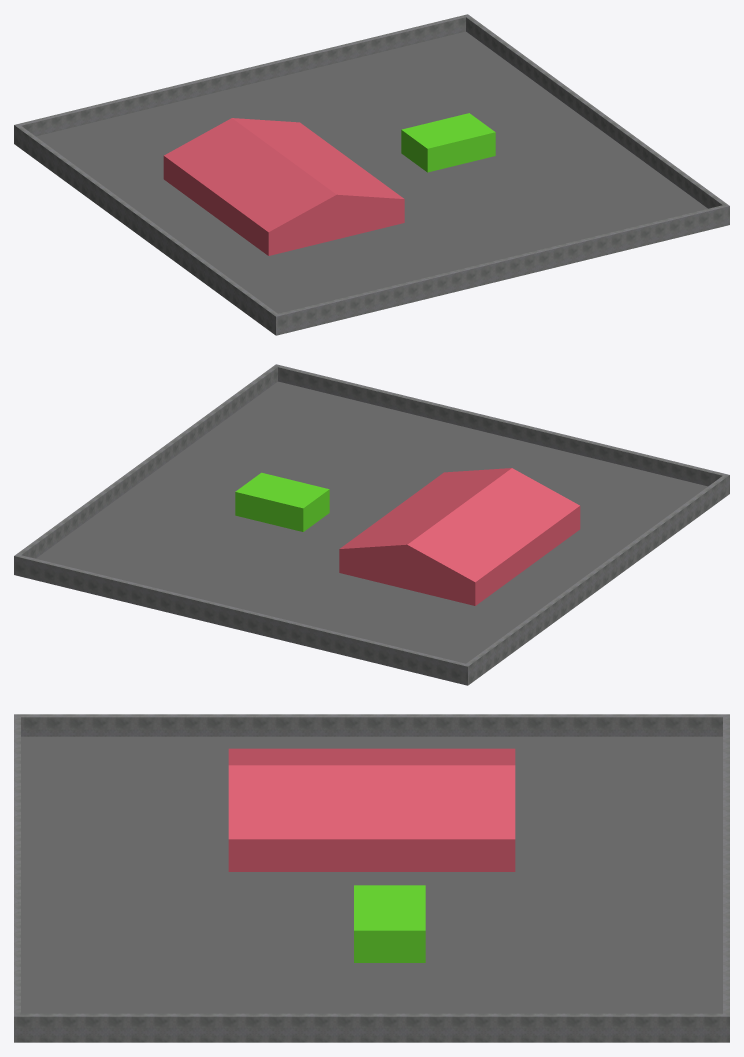
Rendered from loc_1.gltf.
The picture shows the model from 3 angles, top to bottom: view 1: azimuth 30°, elevation 25°; view 2: azimuth 150°, elevation 25°; view 3: azimuth 270°, elevation 25°; orthographic projection. The views are drawn at different scales.
Parts seen in each view (by area): view 1: Plane, Cube, Cube.001; view 2: Plane, Cube, Cube.001; view 3: Plane, Cube, Cube.001.
Part boxes in pixels (x1,y1,x2,y2): Plane: (14,14,729,335); Cube: (163,118,404,255); Cube.001: (401,113,495,172); Plane: (14,364,729,685); Cube: (339,468,580,605); Cube.001: (235,472,329,531); Plane: (14,714,729,1042); Cube: (228,748,515,871); Cube.001: (354,885,425,962).
Size of the model in its own units: 100 by 10.43 by 100.
Materials: 4 (1 with a texture image).
